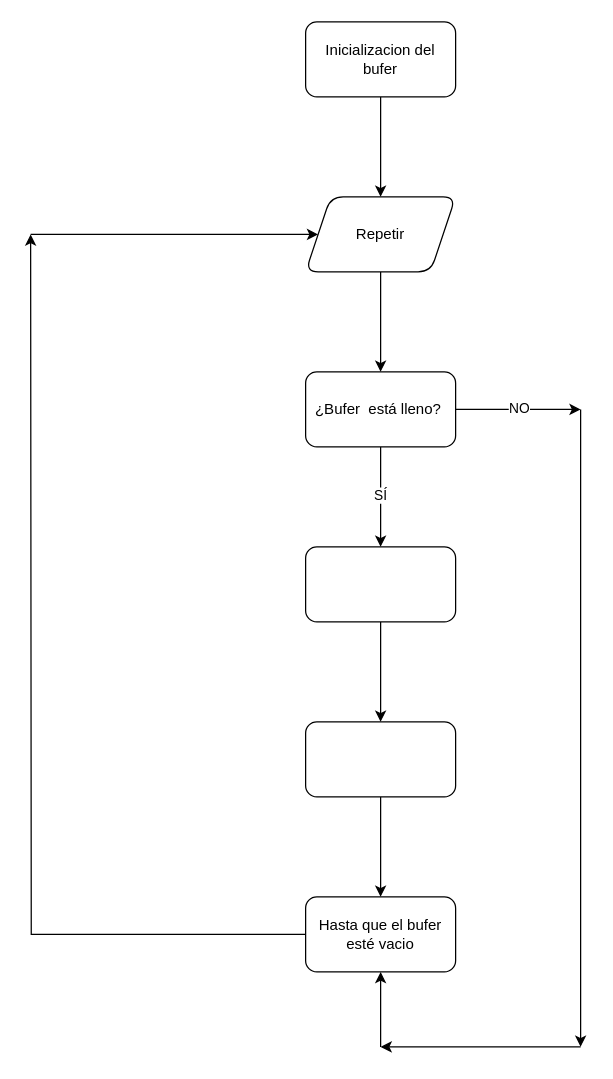
Some shapes in this 613 by 1079 pixel diagram are drawn without their labels. Each missing label, with the box of its shape:
Eliminar orden y procesar el bufer: (304, 721, 456, 797)
Recibir orden y añadir la orden: (304, 546, 456, 622)
